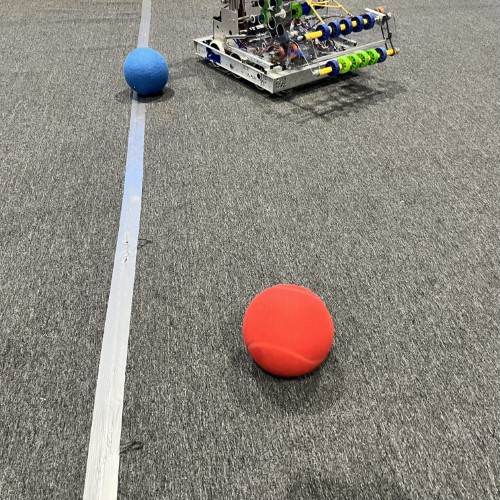blue: (120, 46, 170, 95)
red: (241, 280, 335, 378)
